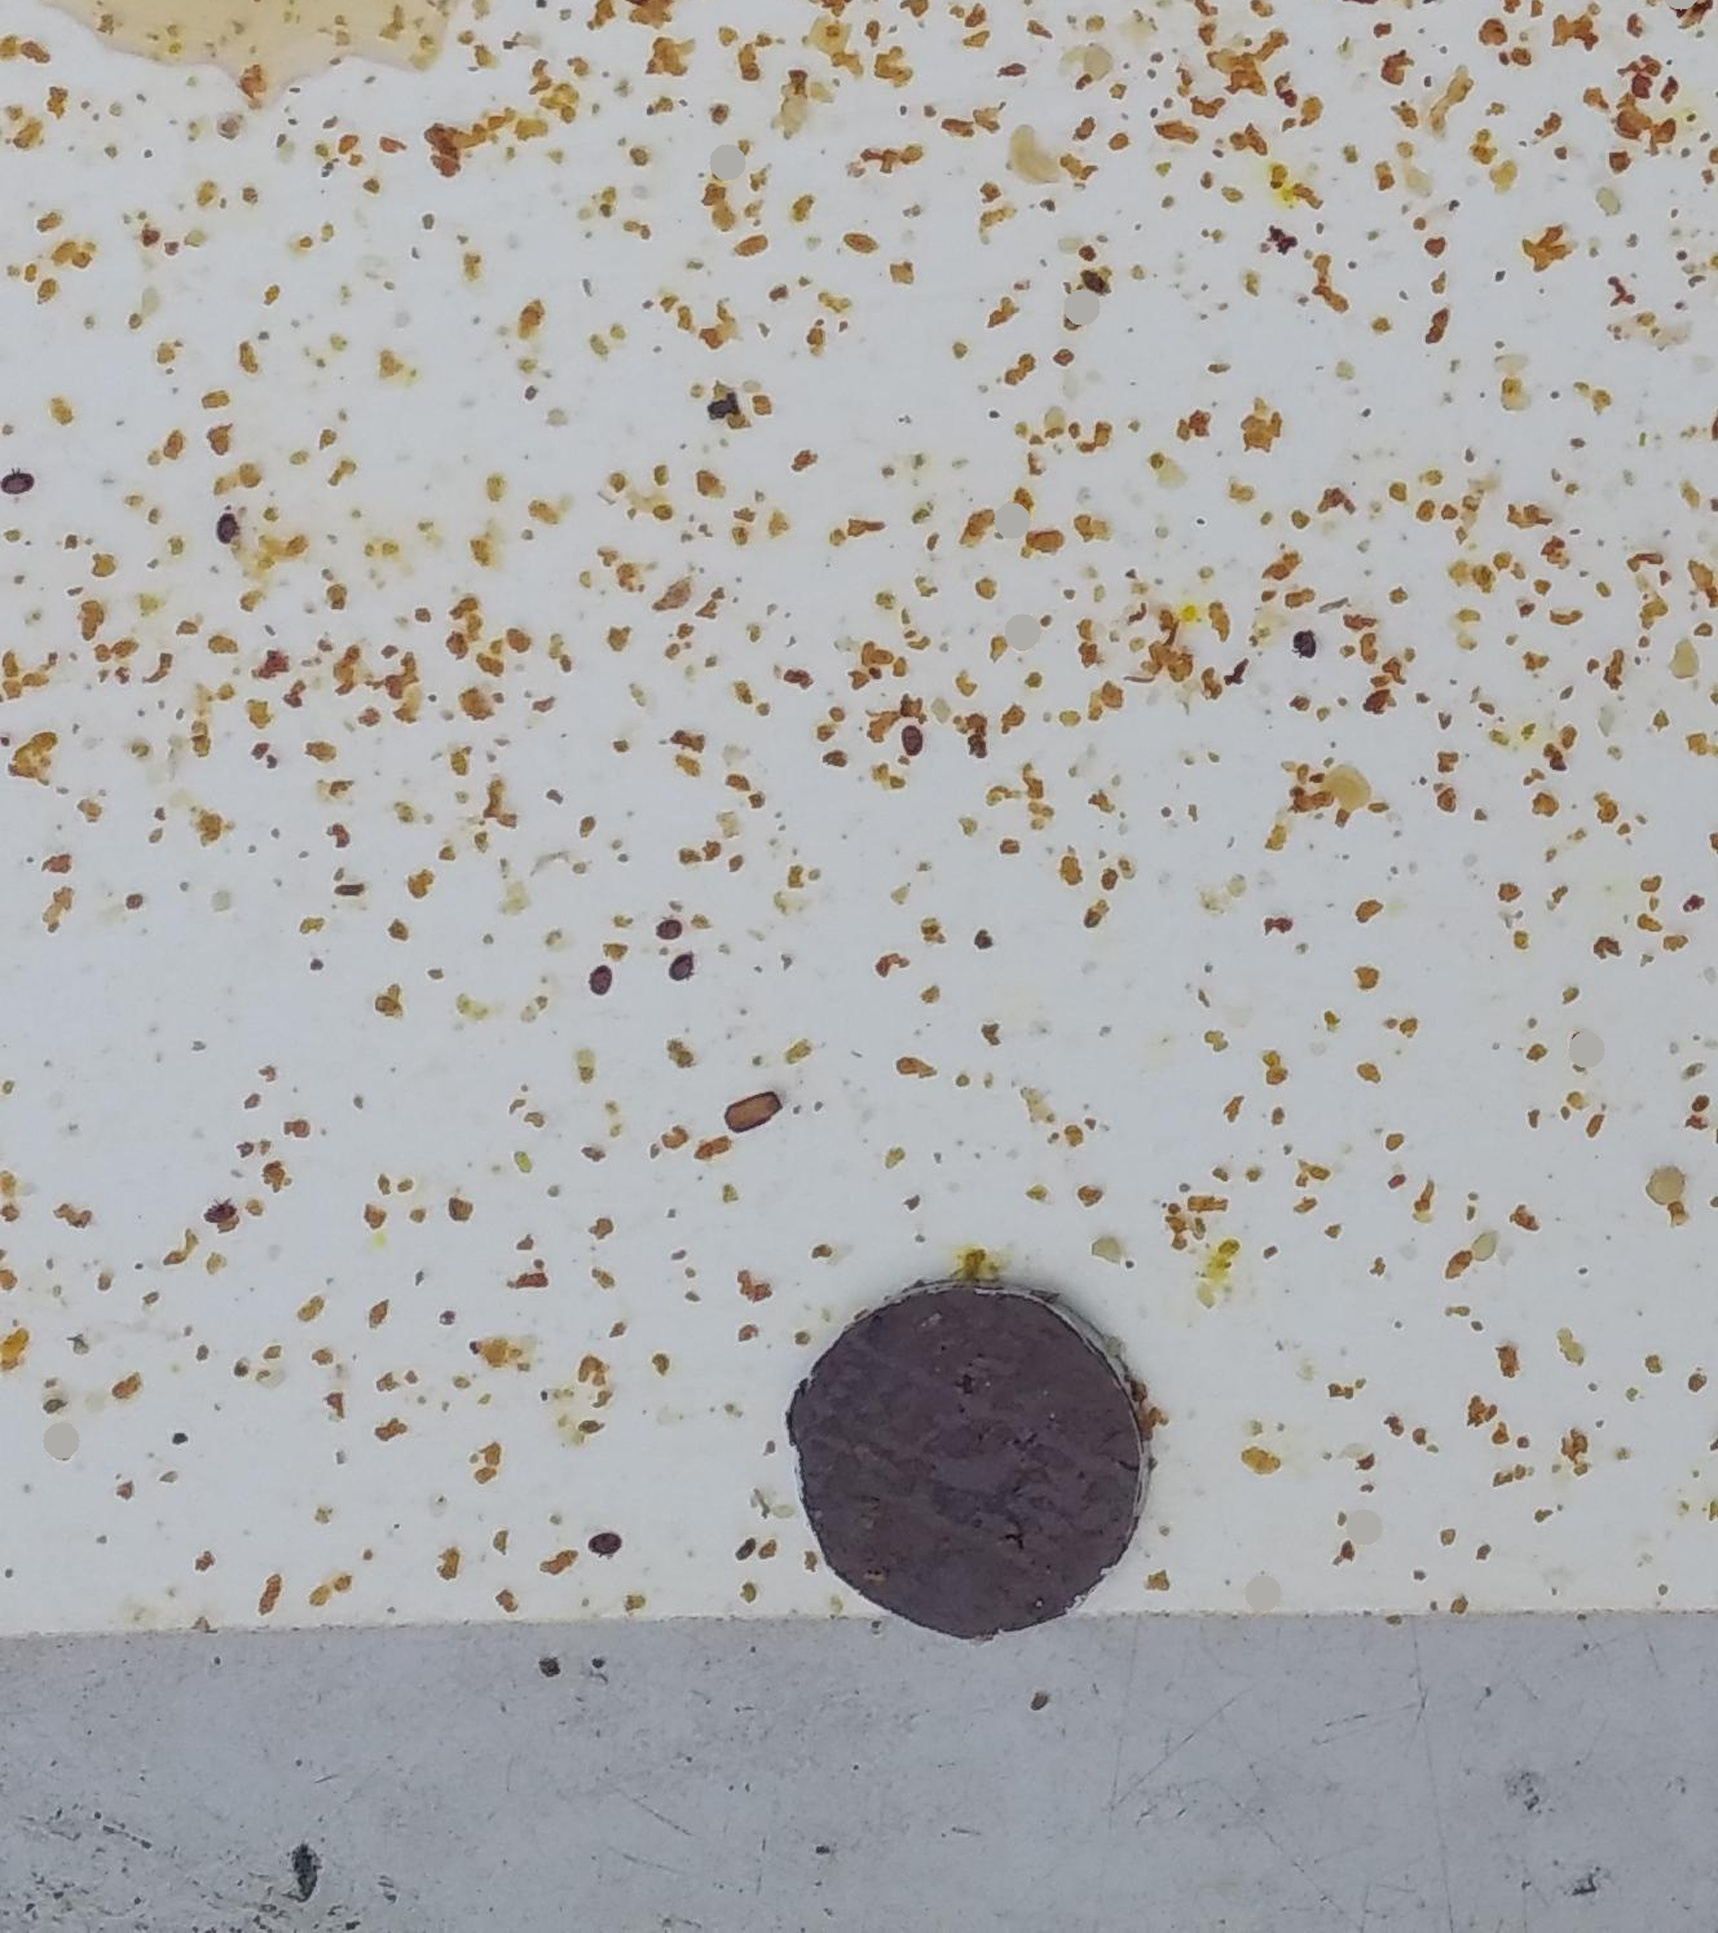Varroa: (642, 922, 678, 965), (892, 708, 929, 749), (3, 463, 38, 506), (658, 957, 695, 996), (1288, 627, 1323, 668), (579, 1519, 614, 1558), (212, 512, 249, 549), (584, 963, 619, 1000), (663, 915, 696, 948), (206, 1197, 237, 1232), (599, 1532, 632, 1563)
